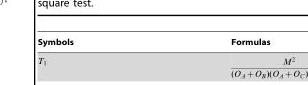table: (36, 37, 269, 46)
table column: (151, 37, 269, 46), (36, 37, 151, 46)
table column header: (36, 37, 269, 46)
table row: (36, 37, 269, 46)
